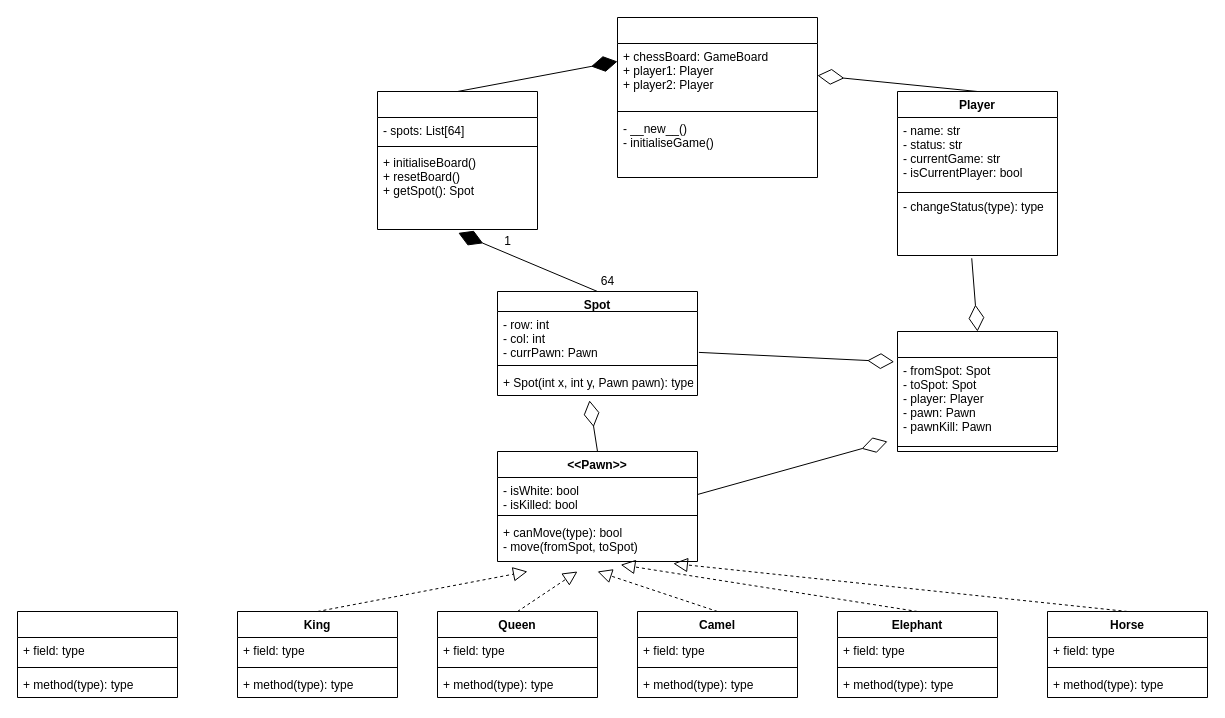
Image size: 1225x718. Some labels were removed from this diagram. The box of each missing label's shape, as (x1, y1, x2, y2) in pixels:
ChessGame: (616, 16, 818, 178)
GameBoard: (376, 90, 538, 230)
Move: (896, 330, 1058, 452)
Soldier: (16, 610, 178, 698)
